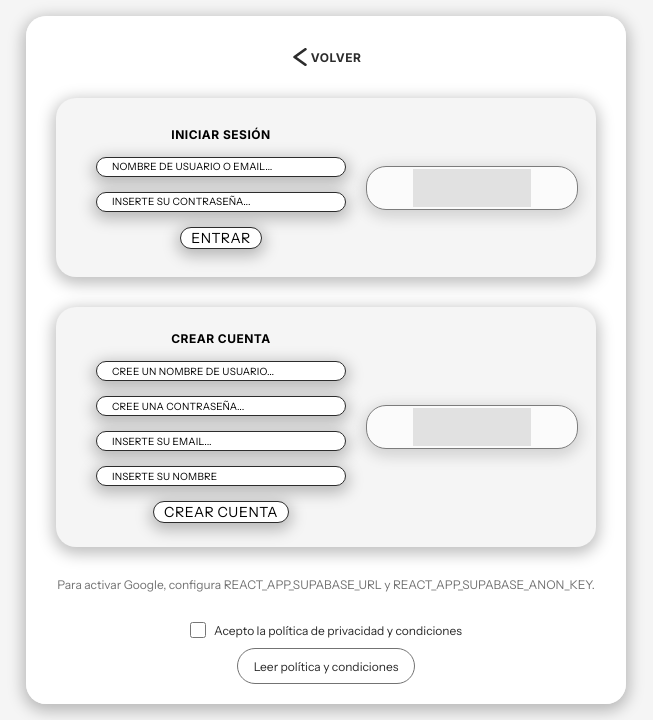
Test: impide crear una cuenta sin aceptar la política
In the field with placeholder "CREE UN NOMBRE DE USUARIO...": (221,371) x1=96 y1=361 x2=346 y2=381, type "ana"
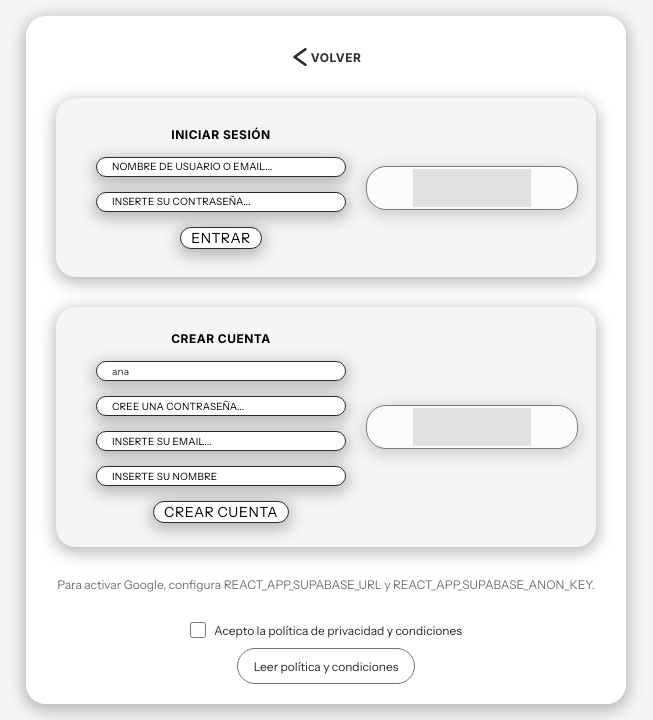
In the password field with placeholder "CREE UNA CONTRASEÑA...": (221,406) x1=96 y1=396 x2=346 y2=416, type "password123"
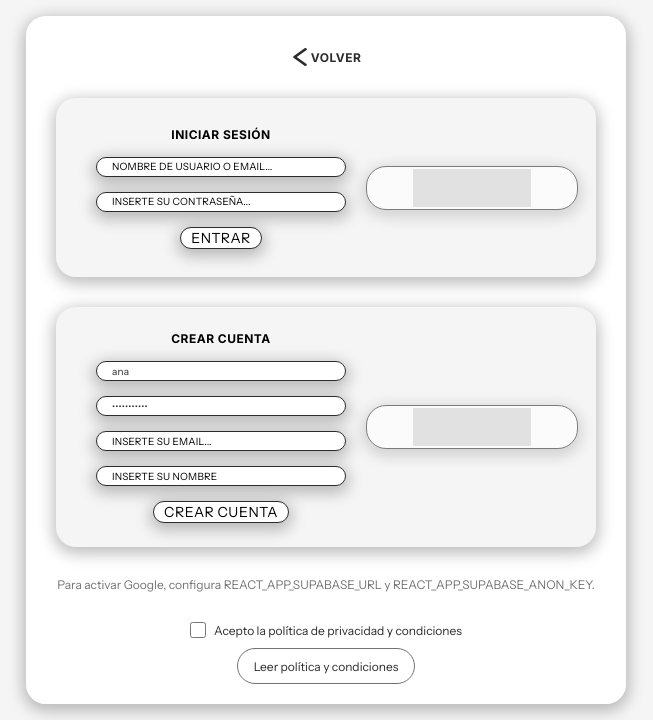
In the field with placeholder "INSERTE SU EMAIL...": (221,441) x1=96 y1=431 x2=346 y2=451, type "ana@example.com"
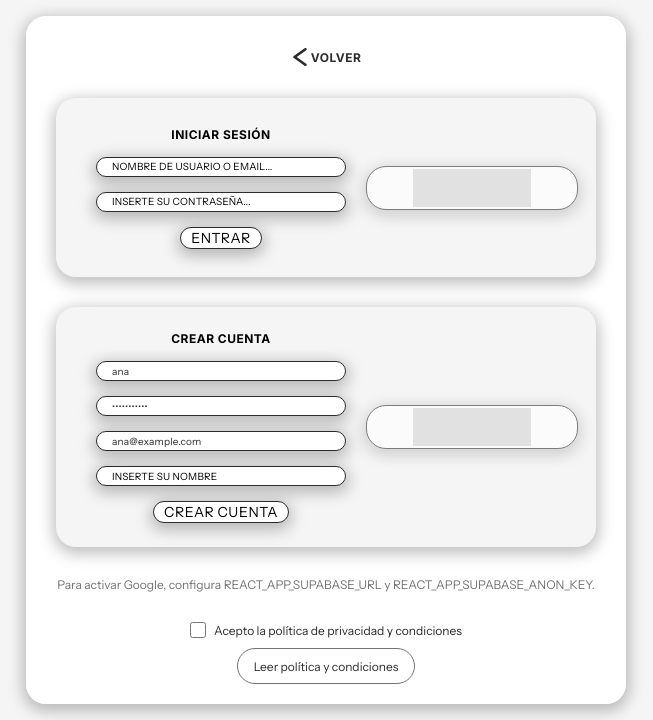
In the field with placeholder "INSERTE SU NOMBRE": (221,476) x1=96 y1=466 x2=346 y2=486, type "Ana"
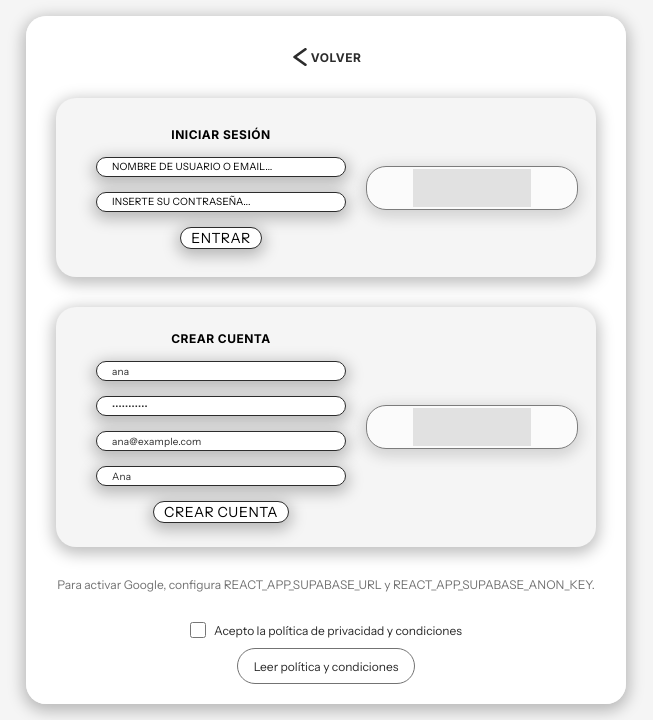
Click the button "CREAR CUENTA": (221,512) x1=153 y1=501 x2=289 y2=523
(page scrolled)
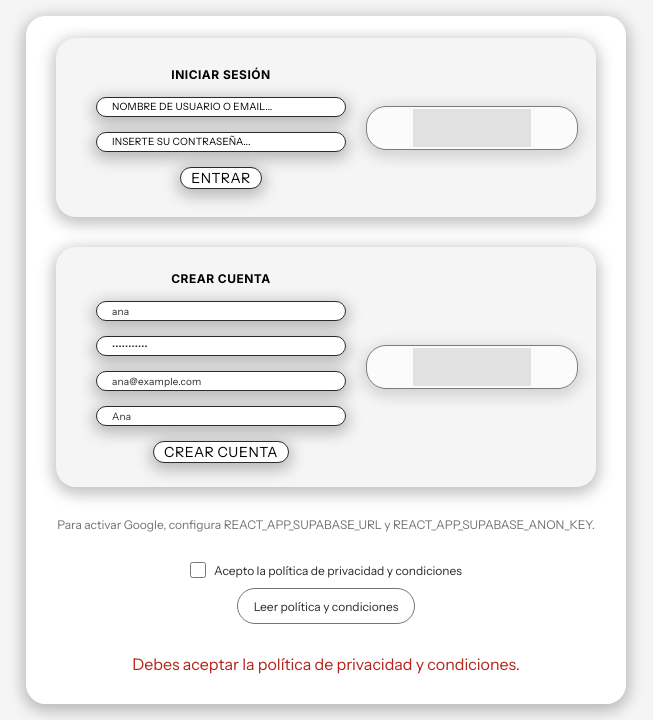
expect the message reads "Debes aceptar la política de privacidad y condiciones.": met, box x1=132 y1=654 x2=520 y2=674
